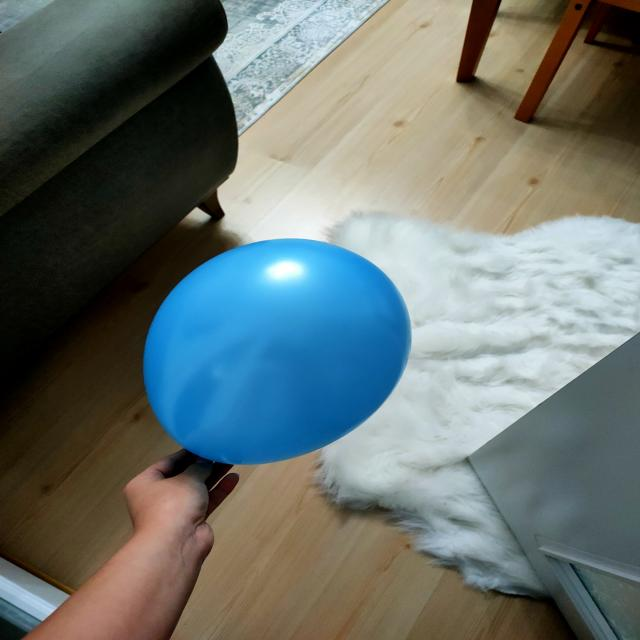blue: (147, 239, 411, 466)
